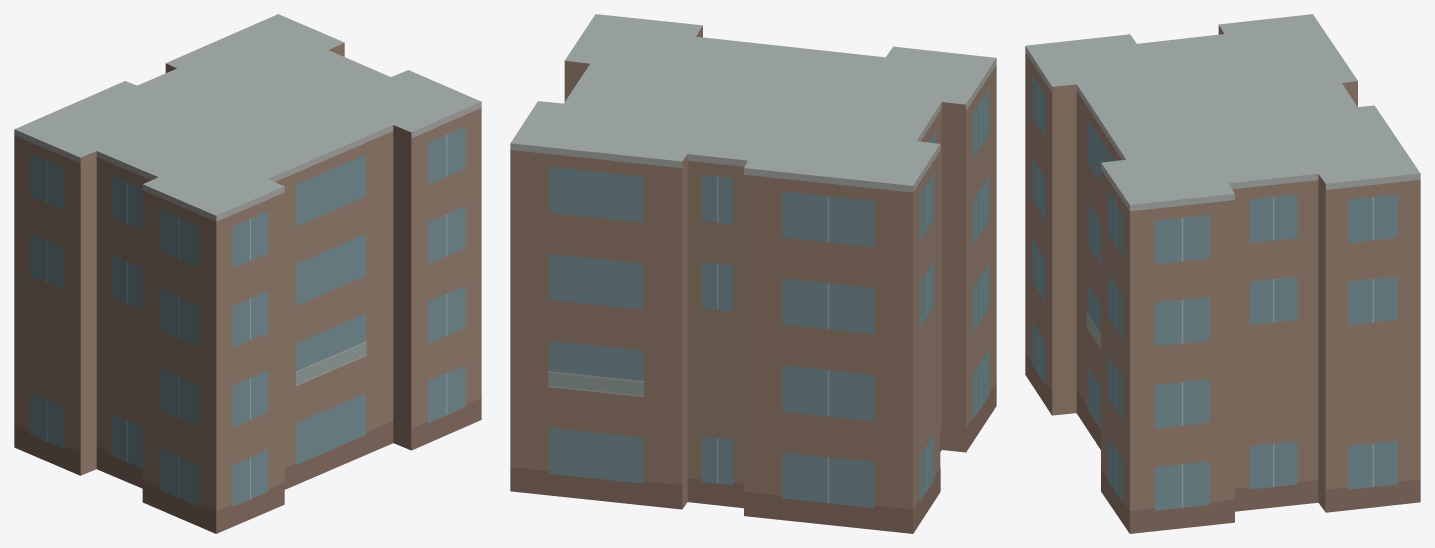
Rendered from survey-upis-32704926.glb.
3 views of the same model, side by side, from view 1: azimuth 30°, elevation 25°; view 2: azimuth 150°, elevation 25°; view 3: azimuth 270°, elevation 25° (orthographic). The views are drawn at different scales.
Parts seen in each view (by area): view 1: survey-upis-32704926.tmp; view 2: survey-upis-32704926.tmp; view 3: survey-upis-32704926.tmp.
Part boxes in pixels (x1,y1,x2,y2): survey-upis-32704926.tmp: (14, 14, 481, 533); survey-upis-32704926.tmp: (510, 14, 996, 533); survey-upis-32704926.tmp: (1025, 14, 1420, 533).
Bounding box in the file's own units: 15.96 × 12.8 × 13.96.
